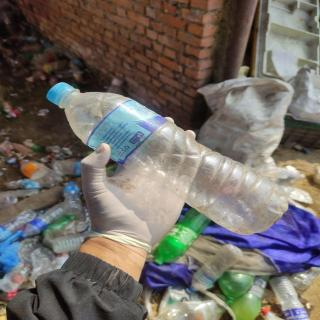Plastic-bottle: (45, 79, 292, 239), (266, 272, 311, 320), (60, 177, 89, 233)
